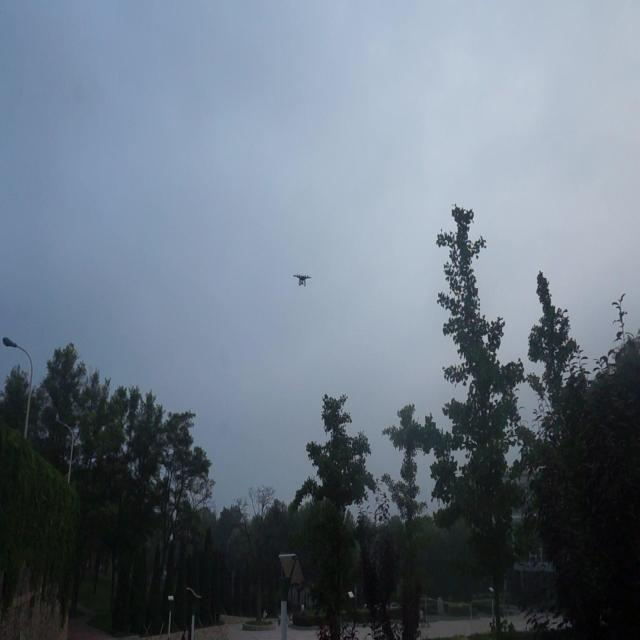drone: (290, 268, 313, 290)
